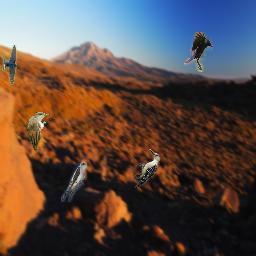Crow: (184, 32, 213, 72)
Cuckoo: (61, 162, 87, 202), (26, 112, 50, 152)
Swallow: (0, 45, 17, 85)
Woodpecker: (133, 149, 160, 189)
